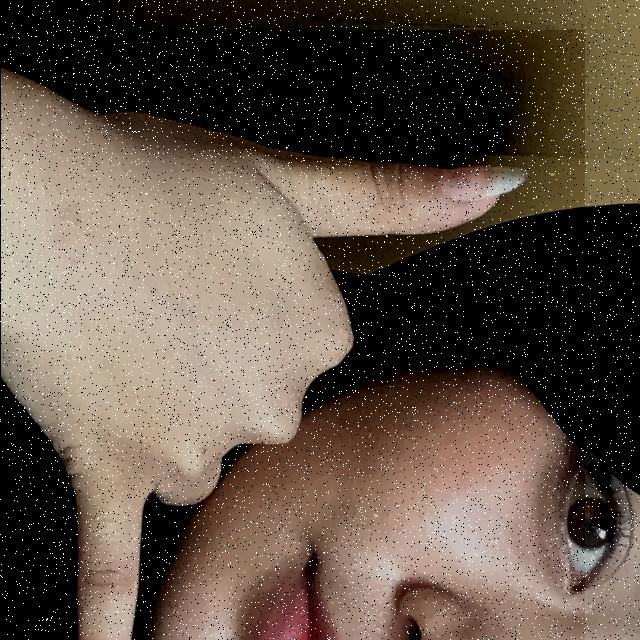telpon: (0, 30, 584, 640)
